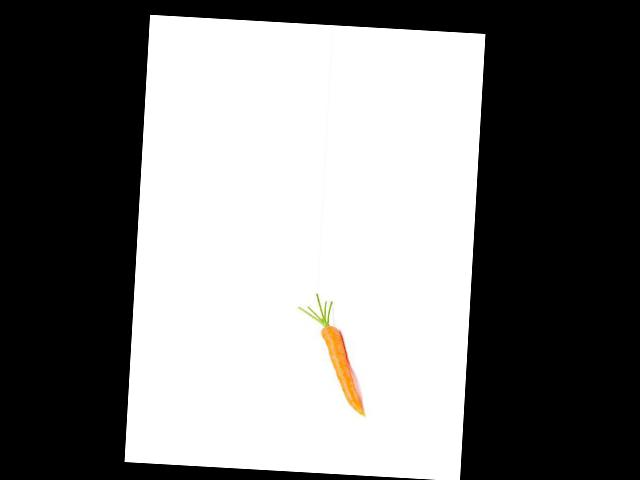carrot: (314, 322, 373, 416)
